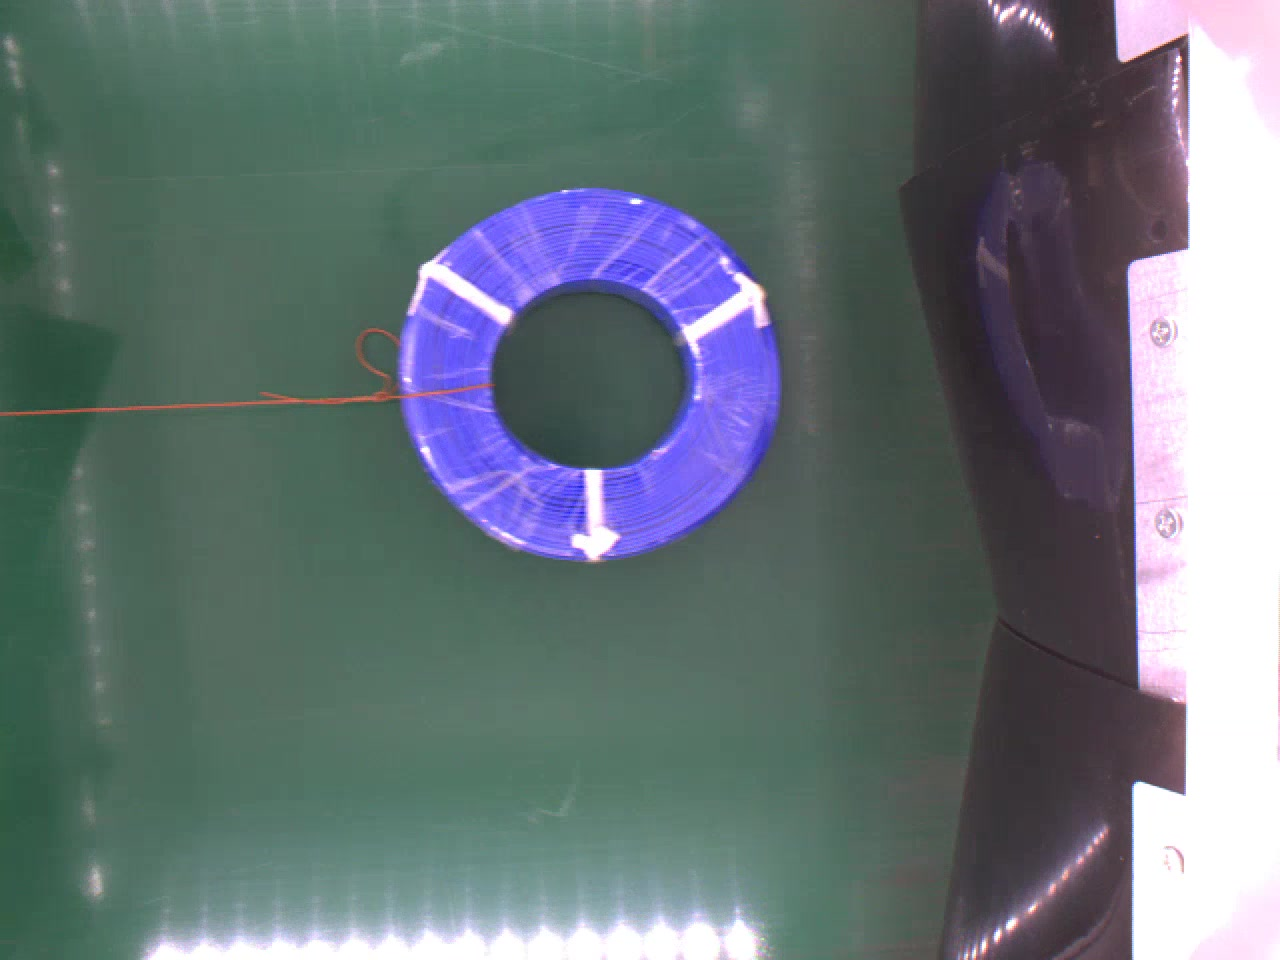blue: (395, 176, 787, 553)
